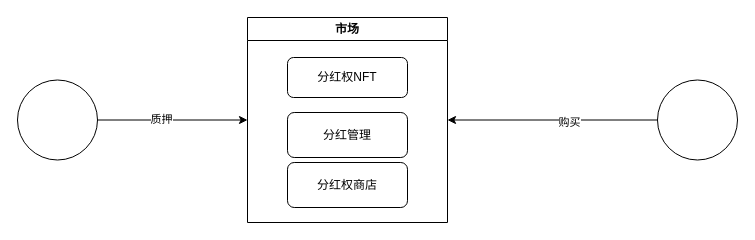
The diagram is 755 pixels wide and 240 high, and some of its shapes have lost their labels. Each missing label, with the box of its shape:
分红权持有者: (16, 79, 98, 160)
用户: (656, 79, 738, 160)
